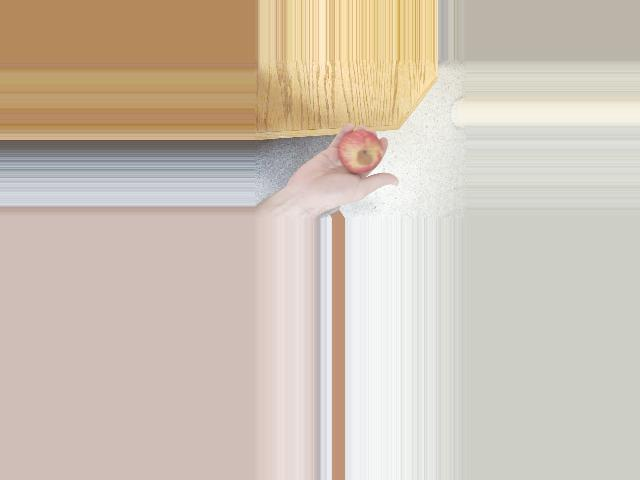apple: (320, 126, 389, 179)
